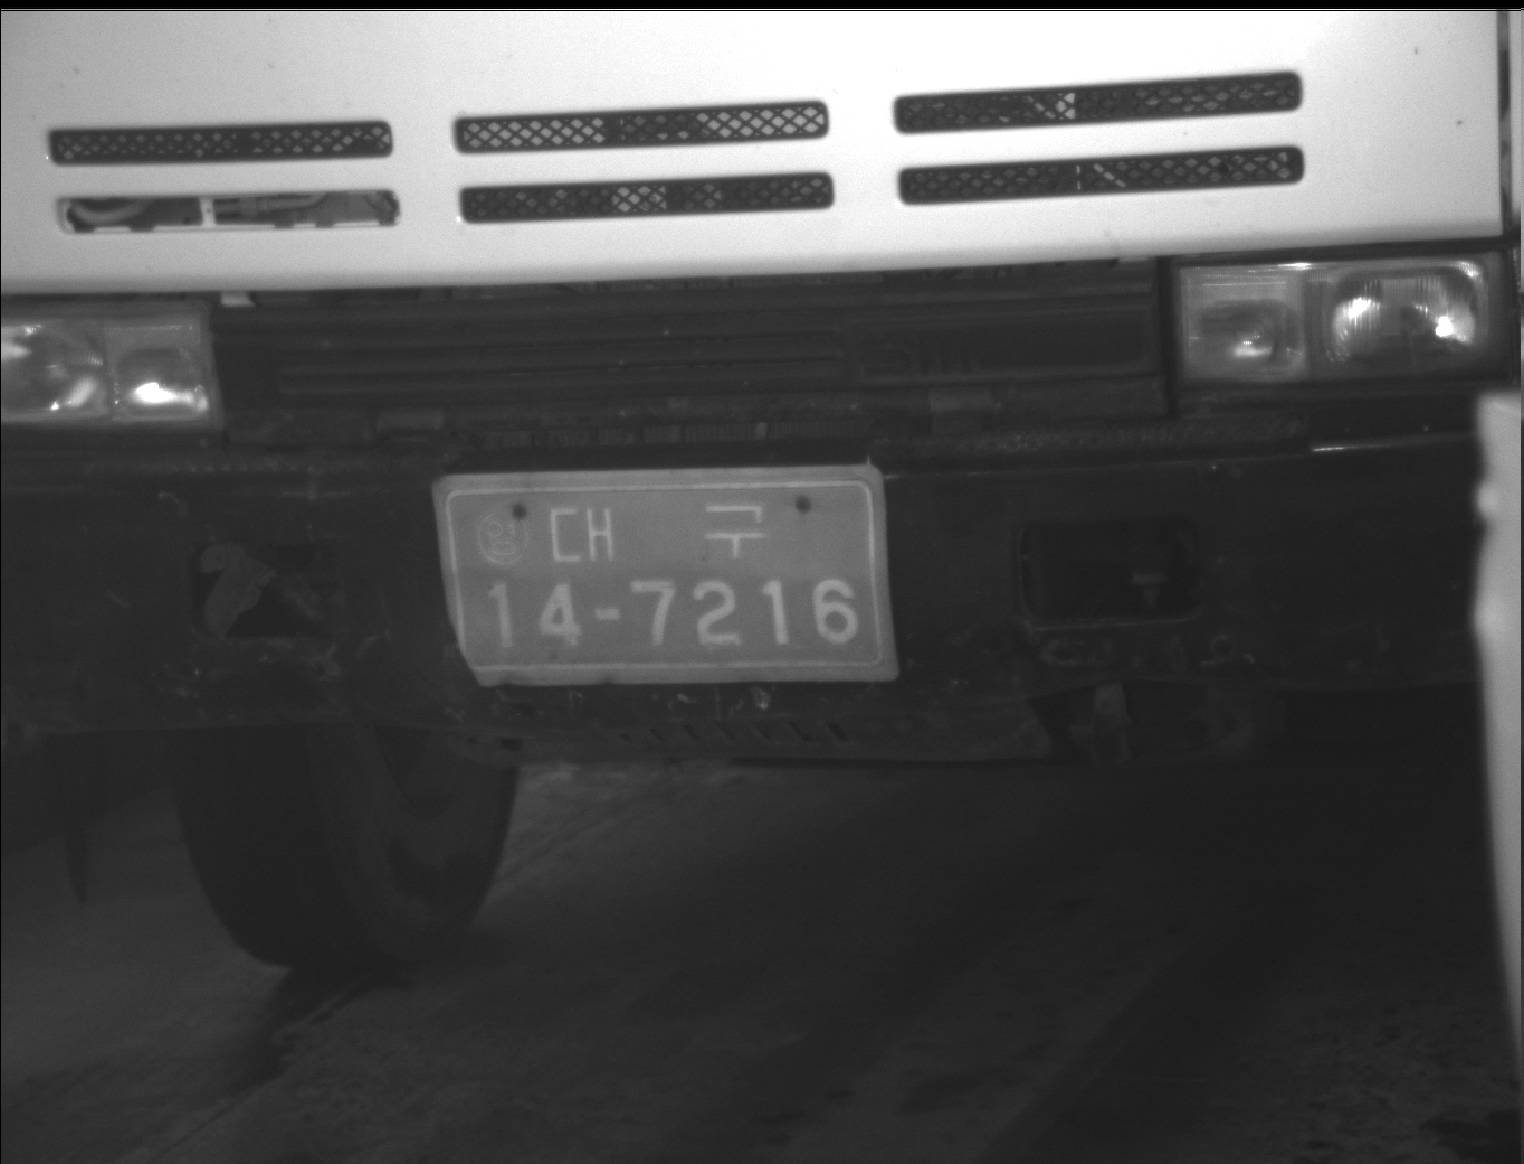car: (2, 3, 1524, 968)
plate: (434, 461, 903, 685)
